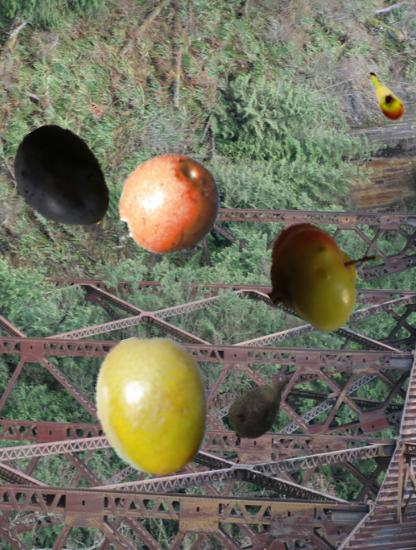Apple: (264, 215, 380, 331)
Banana: (357, 68, 413, 124)
Beetroot: (218, 365, 303, 450)
Granadilla: (107, 148, 224, 265)
Maracuja: (83, 334, 224, 475)
Plum: (5, 124, 118, 237)
